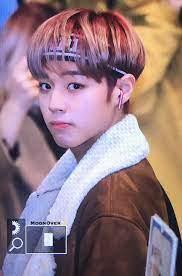earphone: (115, 88, 125, 115)
